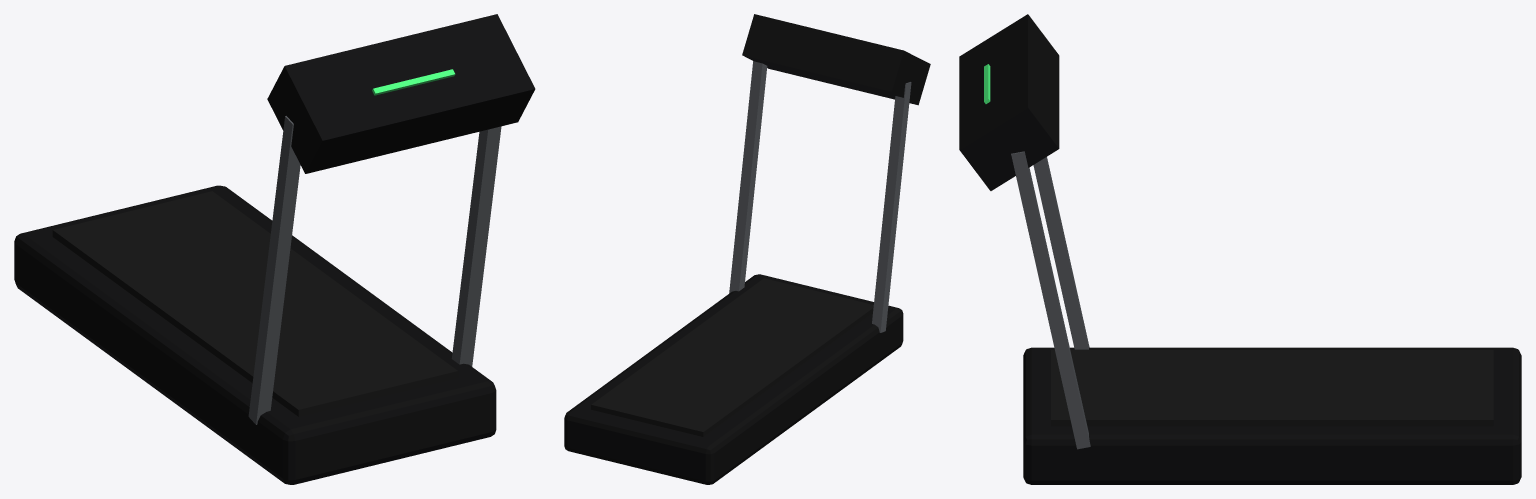
The model's file is treadmill.glb.
3 views of the same model, side by side, from view 1: azimuth 30°, elevation 25°; view 2: azimuth 150°, elevation 25°; view 3: azimuth 270°, elevation 25° (orthographic). The views are drawn at different scales.
Visible parts, largest first — view 1: treadmill; view 2: treadmill; view 3: treadmill.
Part boxes in pixels (x1,y1,x2,y2): treadmill: [14, 14, 535, 484]; treadmill: [564, 14, 930, 484]; treadmill: [959, 14, 1521, 484].
Size of the model in its own units: 0.81 by 1.52 by 2.03.
Materials: 1 (1 with a texture image).
